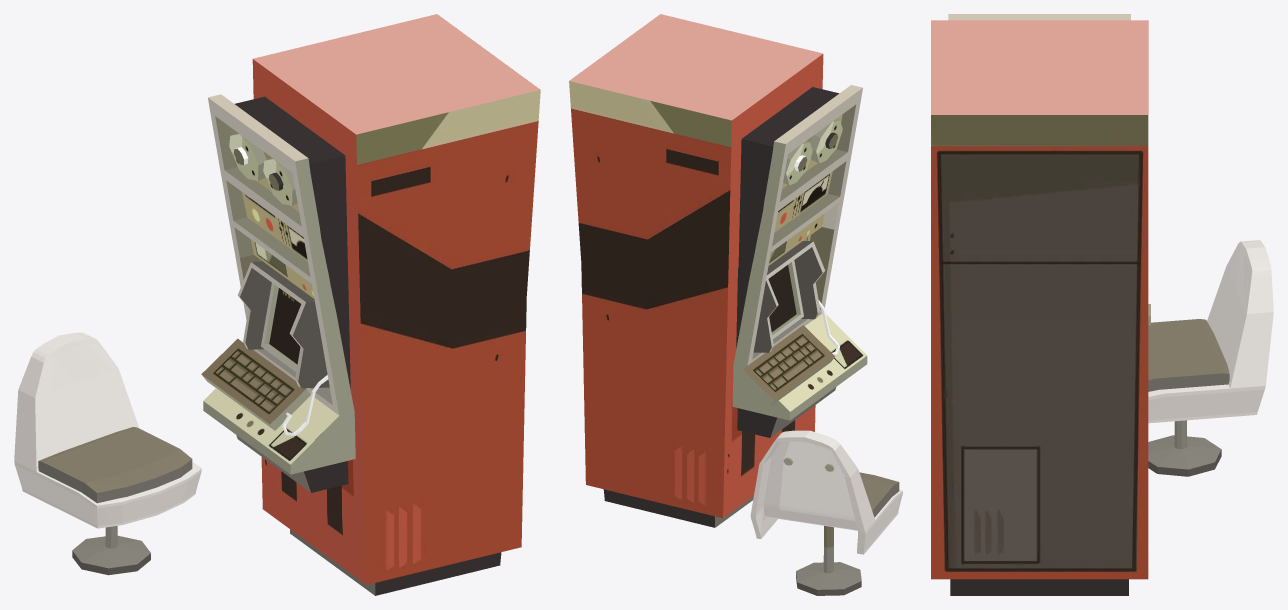
The model's file is mainframe_computer.glb.
3 renders of one model, left to right at view 1: azimuth 30°, elevation 25°; view 2: azimuth 150°, elevation 25°; view 3: azimuth 270°, elevation 25°, orthographic. The views are drawn at different scales.
Parts seen in each view (by area): view 1: Object_16, Object_3, Object_7, Object_6, Object_17, Object_5, Object_8; view 2: Object_16, Object_3, Object_7, Object_6, Object_17, Object_5, Object_8; view 3: Object_16, Object_3.
Boxes of the visible parts, left/top/right/bottom form: Object_16: left=252, top=59, right=540, bottom=584; Object_3: left=14, top=14, right=540, bottom=595; Object_7: left=201, top=338, right=305, bottom=424; Object_6: left=203, top=388, right=338, bottom=464; Object_17: left=230, top=127, right=314, bottom=298; Object_5: left=269, top=288, right=301, bottom=364; Object_8: left=229, top=134, right=292, bottom=205; Object_16: left=569, top=54, right=823, bottom=518; Object_3: left=569, top=14, right=902, bottom=595; Object_7: left=743, top=325, right=835, bottom=400; Object_6: left=779, top=314, right=866, bottom=411; Object_17: left=768, top=114, right=842, bottom=265; Object_5: left=768, top=265, right=796, bottom=331; Object_8: left=786, top=120, right=842, bottom=185; Object_16: left=931, top=20, right=1148, bottom=579; Object_3: left=931, top=14, right=1273, bottom=595.
Bounding box in the file's own units: 1.97 × 2.39 × 1.47.
7 materials, 7 textured.
